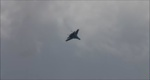maybay_muctieu: (65, 27, 82, 42)
